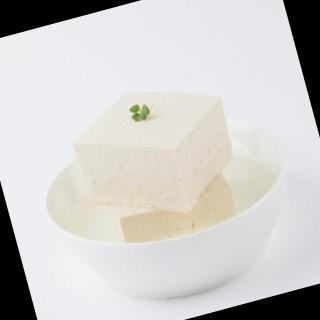Tahu: (30, 56, 277, 291)
